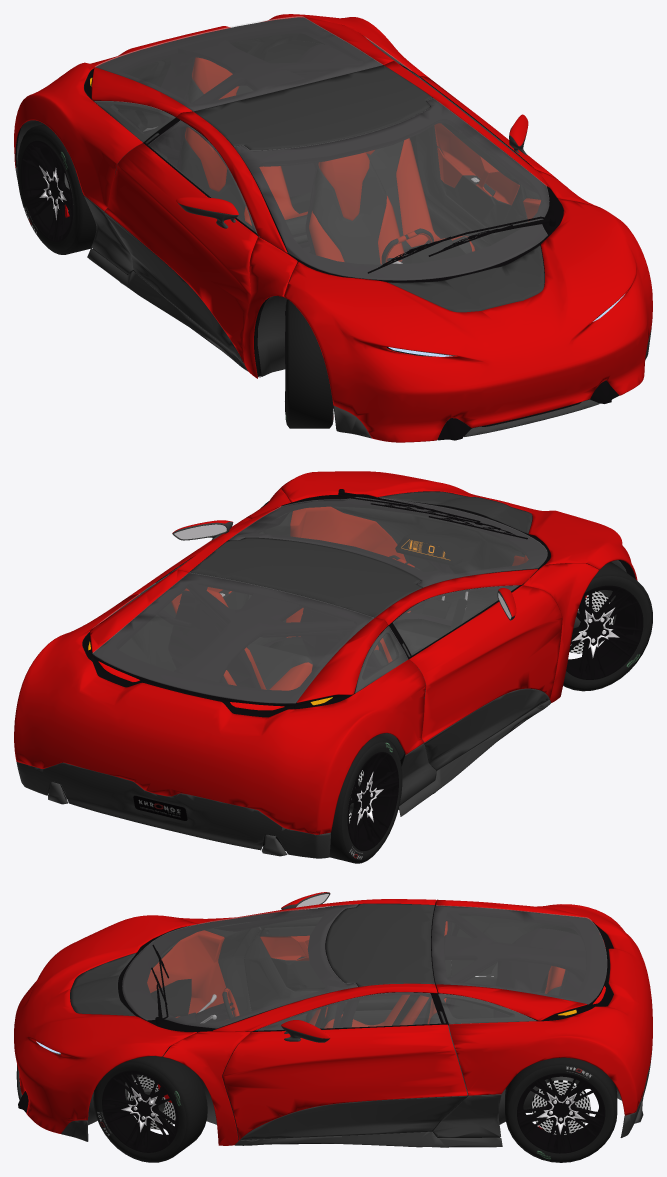
The model's file is car-road.glb.
3 renders of one model, top to bottom at view 1: azimuth 30°, elevation 25°; view 2: azimuth 150°, elevation 25°; view 3: azimuth 270°, elevation 25°, orthographic. The views are drawn at different scales.
Parts seen in each view (by area): view 1: BodyHood, BodyWindshield, BodyRearwindow, BodyDoorRColor1, BodyRearPanelsColor1, BodyRoofPanel, BodyWindshieldGasket, InteriorSeatsColor1, InteriorSeatsColor2, BodyPillars, InteriorPillar, InteriorRearHatch (+21 smaller); view 2: BodyRearPanelsColor1, BodyRearwindow, BodyWindshield, BodyDoorRColor1, BodyPanelsColor2, BodyRoofPanel, BodyHood, InteriorRearHatch, BodyPillars, InteriorPillar, InteriorDashMid, BodyWindshieldGasket (+22 smaller); view 3: BodyRearPanelsColor1, BodyWindshield, BodyDoorLColor1, BodyHood, BodyRearwindow, BodyRoofPanel, BodyPillars, BodyWindshieldGasket, BodyDoorLColor2, BodyPanelsColor2, WheelFrontL, InteriorRearHatch (+25 smaller).
Part boxes in pixels (box(x1,y1,x2,y2)): BodyHood: box(283, 198, 652, 442); BodyWindshield: box(234, 98, 549, 280); BodyRearwindow: box(95, 16, 382, 110); BodyDoorRColor1: box(104, 143, 257, 363); BodyRearPanelsColor1: box(14, 14, 428, 210); BodyRoofPanel: box(193, 65, 432, 150); BodyWindshieldGasket: box(234, 99, 563, 282); InteriorSeatsColor1: box(185, 57, 475, 264); InteriorSeatsColor2: box(180, 78, 472, 264); BodyPillars: box(176, 61, 598, 378); InteriorPillar: box(158, 37, 434, 168); InteriorRearHatch: box(93, 17, 383, 117); BodyRearPanelsColor1: box(14, 569, 425, 834); BodyRearwindow: box(92, 573, 373, 703); BodyWindshield: box(229, 497, 547, 587); BodyDoorRColor1: box(409, 585, 562, 742); BodyPanelsColor2: box(16, 700, 550, 858); BodyRoofPanel: box(189, 537, 422, 617); BodyHood: box(279, 471, 637, 580); InteriorRearHatch: box(93, 573, 386, 707); BodyPillars: box(175, 489, 599, 702); InteriorPillar: box(174, 574, 417, 682); InteriorDashMid: box(331, 503, 528, 622); BodyWindshieldGasket: box(230, 497, 550, 587); BodyRearPanelsColor1: box(436, 899, 652, 1115); BodyWindshield: box(122, 904, 357, 1028); BodyDoorLColor1: box(222, 1024, 467, 1140); BodyHood: box(14, 915, 196, 1133); BodyRearwindow: box(432, 905, 606, 1003); BodyRoofPanel: box(326, 903, 434, 986); BodyPillars: box(163, 899, 437, 1145); BodyWindshieldGasket: box(118, 905, 357, 1032); BodyDoorLColor2: box(240, 1096, 467, 1140); BodyPanelsColor2: box(16, 1050, 652, 1147); WheelFrontL: box(93, 1054, 207, 1162); InteriorRearHatch: box(431, 905, 606, 1020).
Size of the model in its own units: 2.54 by 1.15 by 4.36.
Materials: 23 (6 with a texture image).
